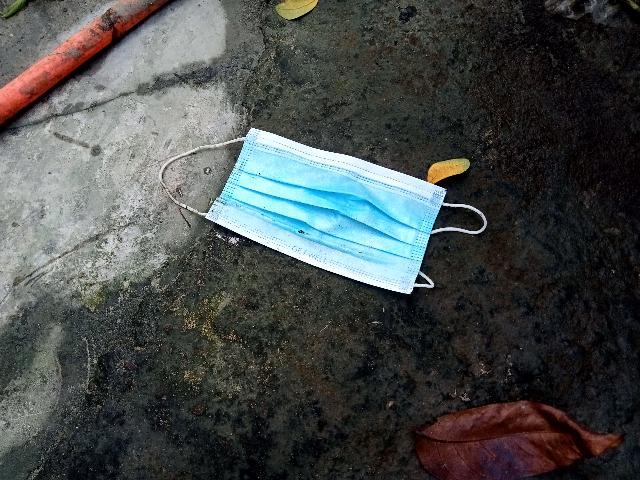mask: (223, 121, 442, 302)
